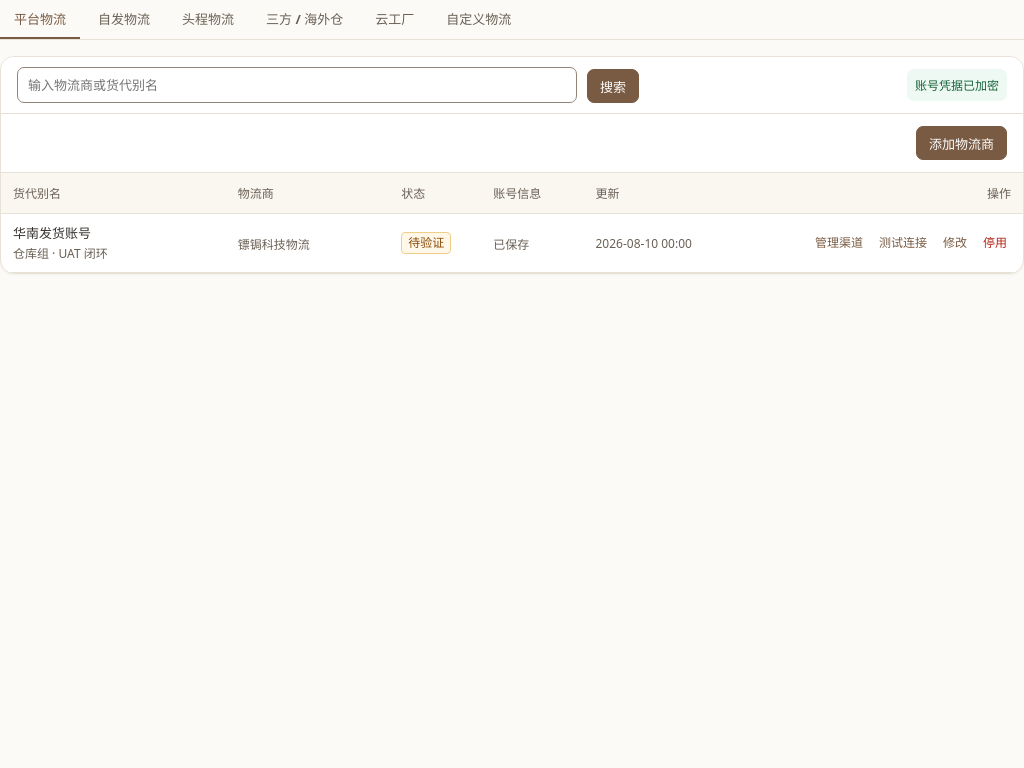
Test: logistics authorization › requires a freight alias when the same provider already has an account
Expected: the text "华南发货账号" is shown, [13,224,91,242]
Click the button "添加物流商": (962, 143) [916,126,1007,160]
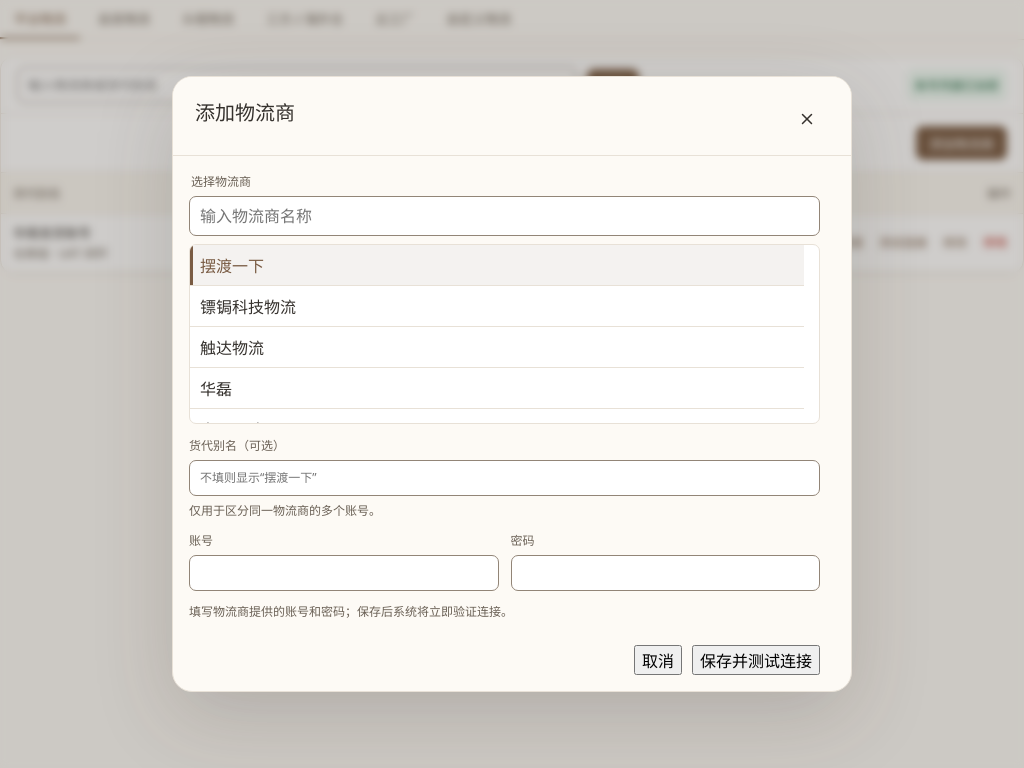
In the search field named "搜索物流商": (504, 216) [189,196,820,236], type "镖锔"
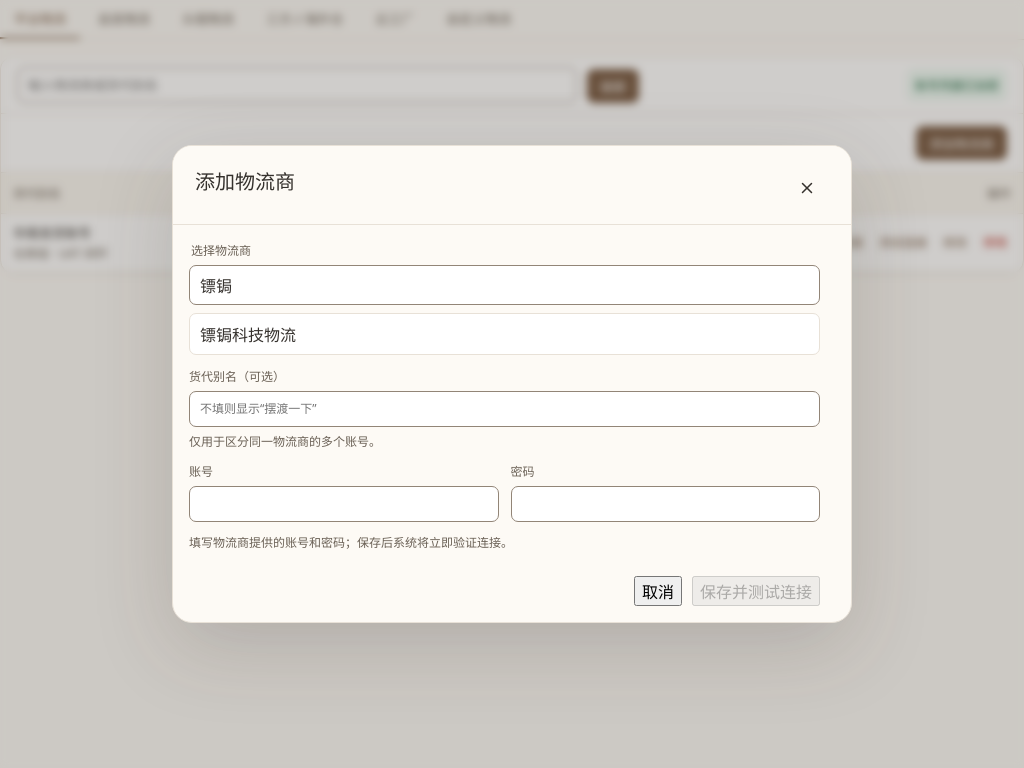
Click the option "镖锔科技物流": (248, 335) [190,314,804,354]
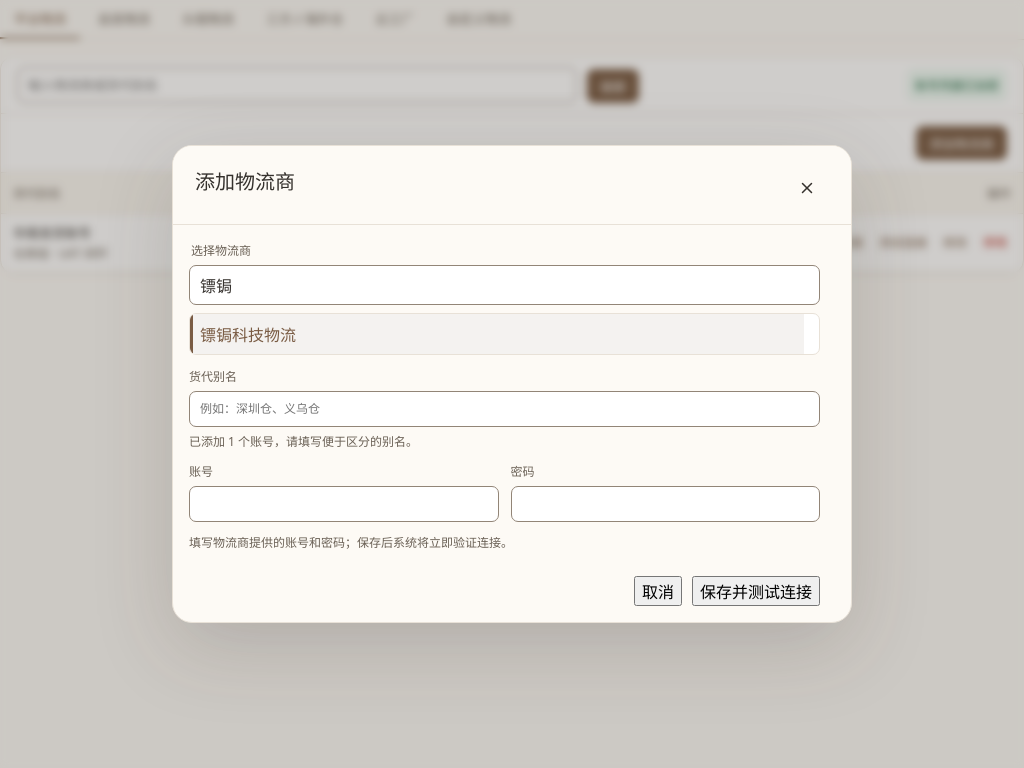
Result: the text "已添加 1 个账号，请填写便于区分的别名。" is shown at [189,433,418,450]
